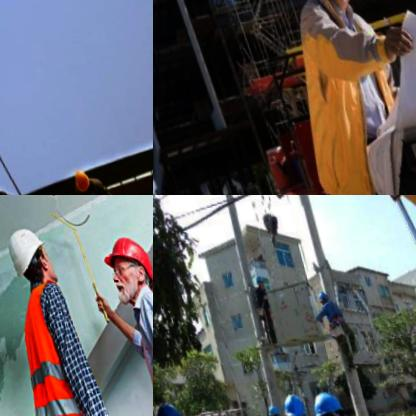helmet: (88, 222, 153, 308), (0, 214, 55, 300), (301, 385, 346, 416), (275, 387, 307, 416), (63, 163, 90, 193), (153, 396, 183, 416), (311, 286, 331, 308), (257, 399, 280, 416), (250, 270, 265, 291)
